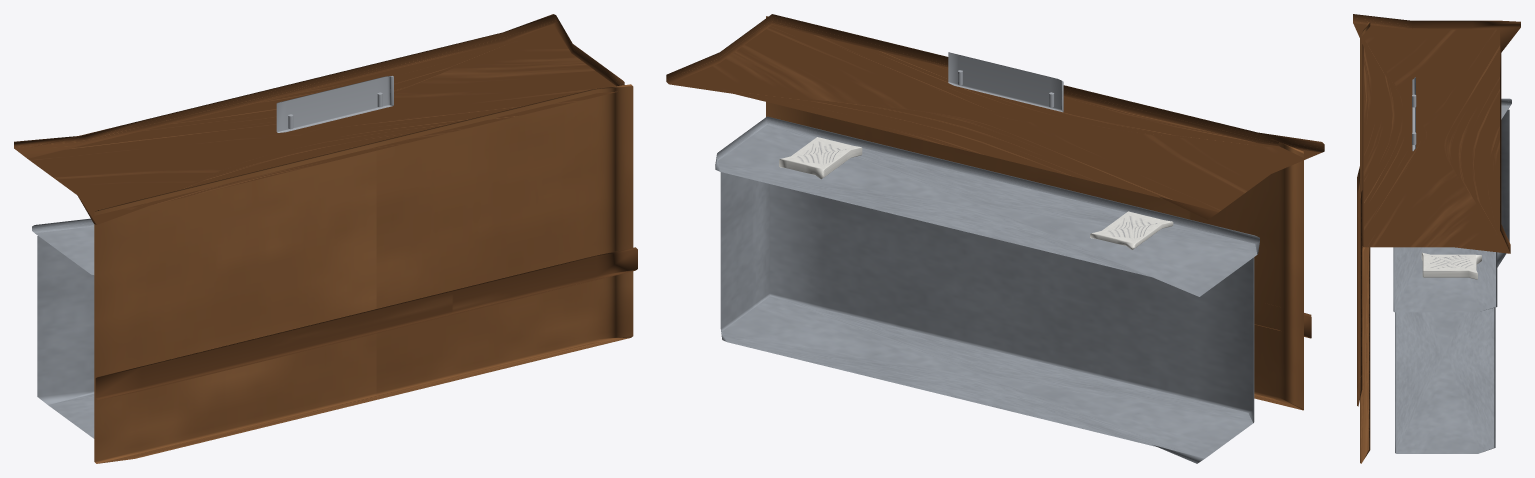
The model's file is reception_counter.glb.
3 views of the same model, side by side, from view 1: azimuth 30°, elevation 25°; view 2: azimuth 150°, elevation 25°; view 3: azimuth 270°, elevation 25° (orthographic). The views are drawn at different scales.
Visible parts, largest first — view 1: Reception_Counter; view 2: Reception_Counter; view 3: Reception_Counter.
Boxes of the visible parts, x1=… form: Reception_Counter: x1=14, y1=14, x2=637, y2=463; Reception_Counter: x1=666, y1=14, x2=1324, y2=463; Reception_Counter: x1=1353, y1=14, x2=1520, y2=463.
Size of the model in its own units: 2.48 by 1.25 by 0.7543.
Materials: 5 (4 with a texture image).
